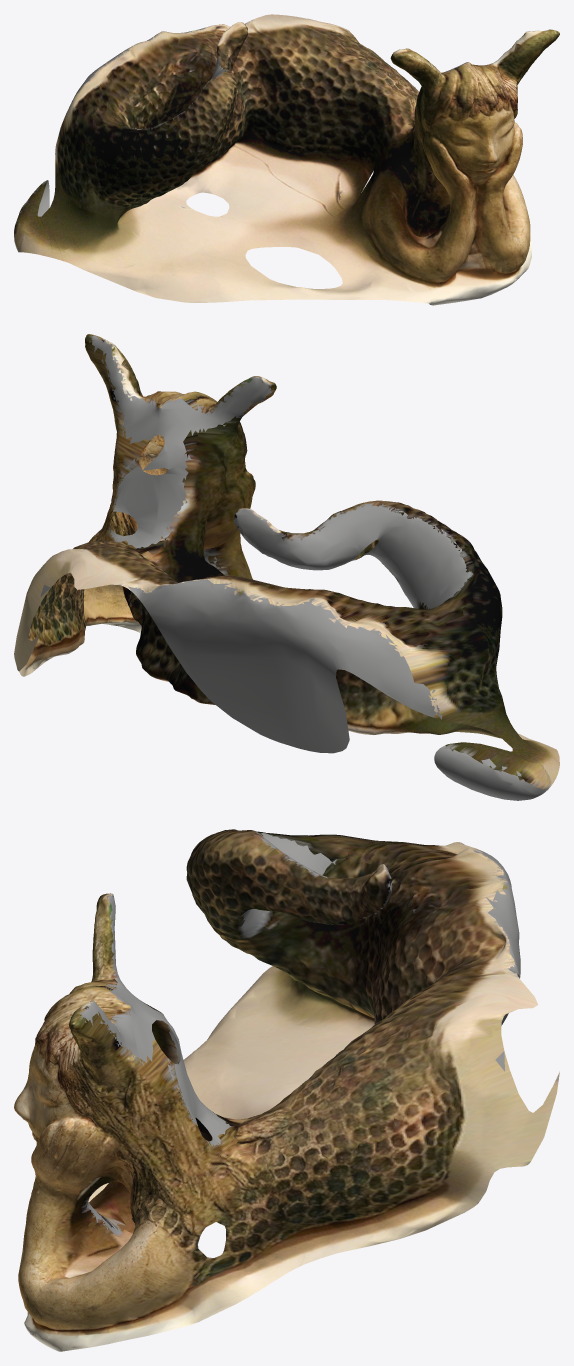
Rendered from wormWoman.obj.
3 renders of one model, top to bottom at view 1: azimuth 30°, elevation 25°; view 2: azimuth 150°, elevation 25°; view 3: azimuth 270°, elevation 25°, orthographic. The views are drawn at different scales.
Parts seen in each view (by area): view 1: wormWoman; view 2: wormWoman; view 3: wormWoman.
Boxes of the visible parts, x1=… form: wormWoman: x1=14, y1=14, x2=559, y2=305; wormWoman: x1=14, y1=334, x2=559, y2=800; wormWoman: x1=14, y1=829, x2=559, y2=1351.
Bounding box in the file's own units: 14.95 × 7.84 × 9.97.
Materials: 1 (1 with a texture image).
